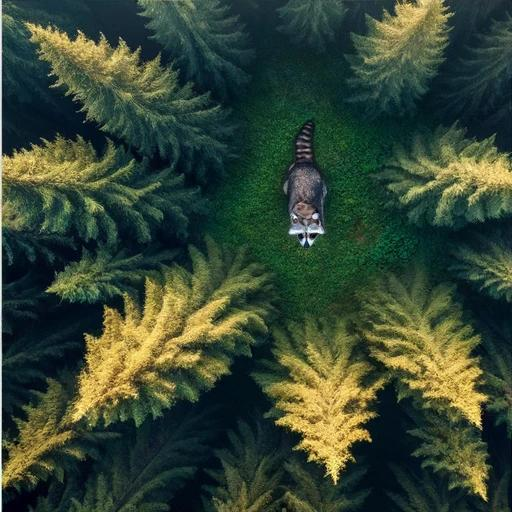raccoon: (275, 112, 336, 255)
